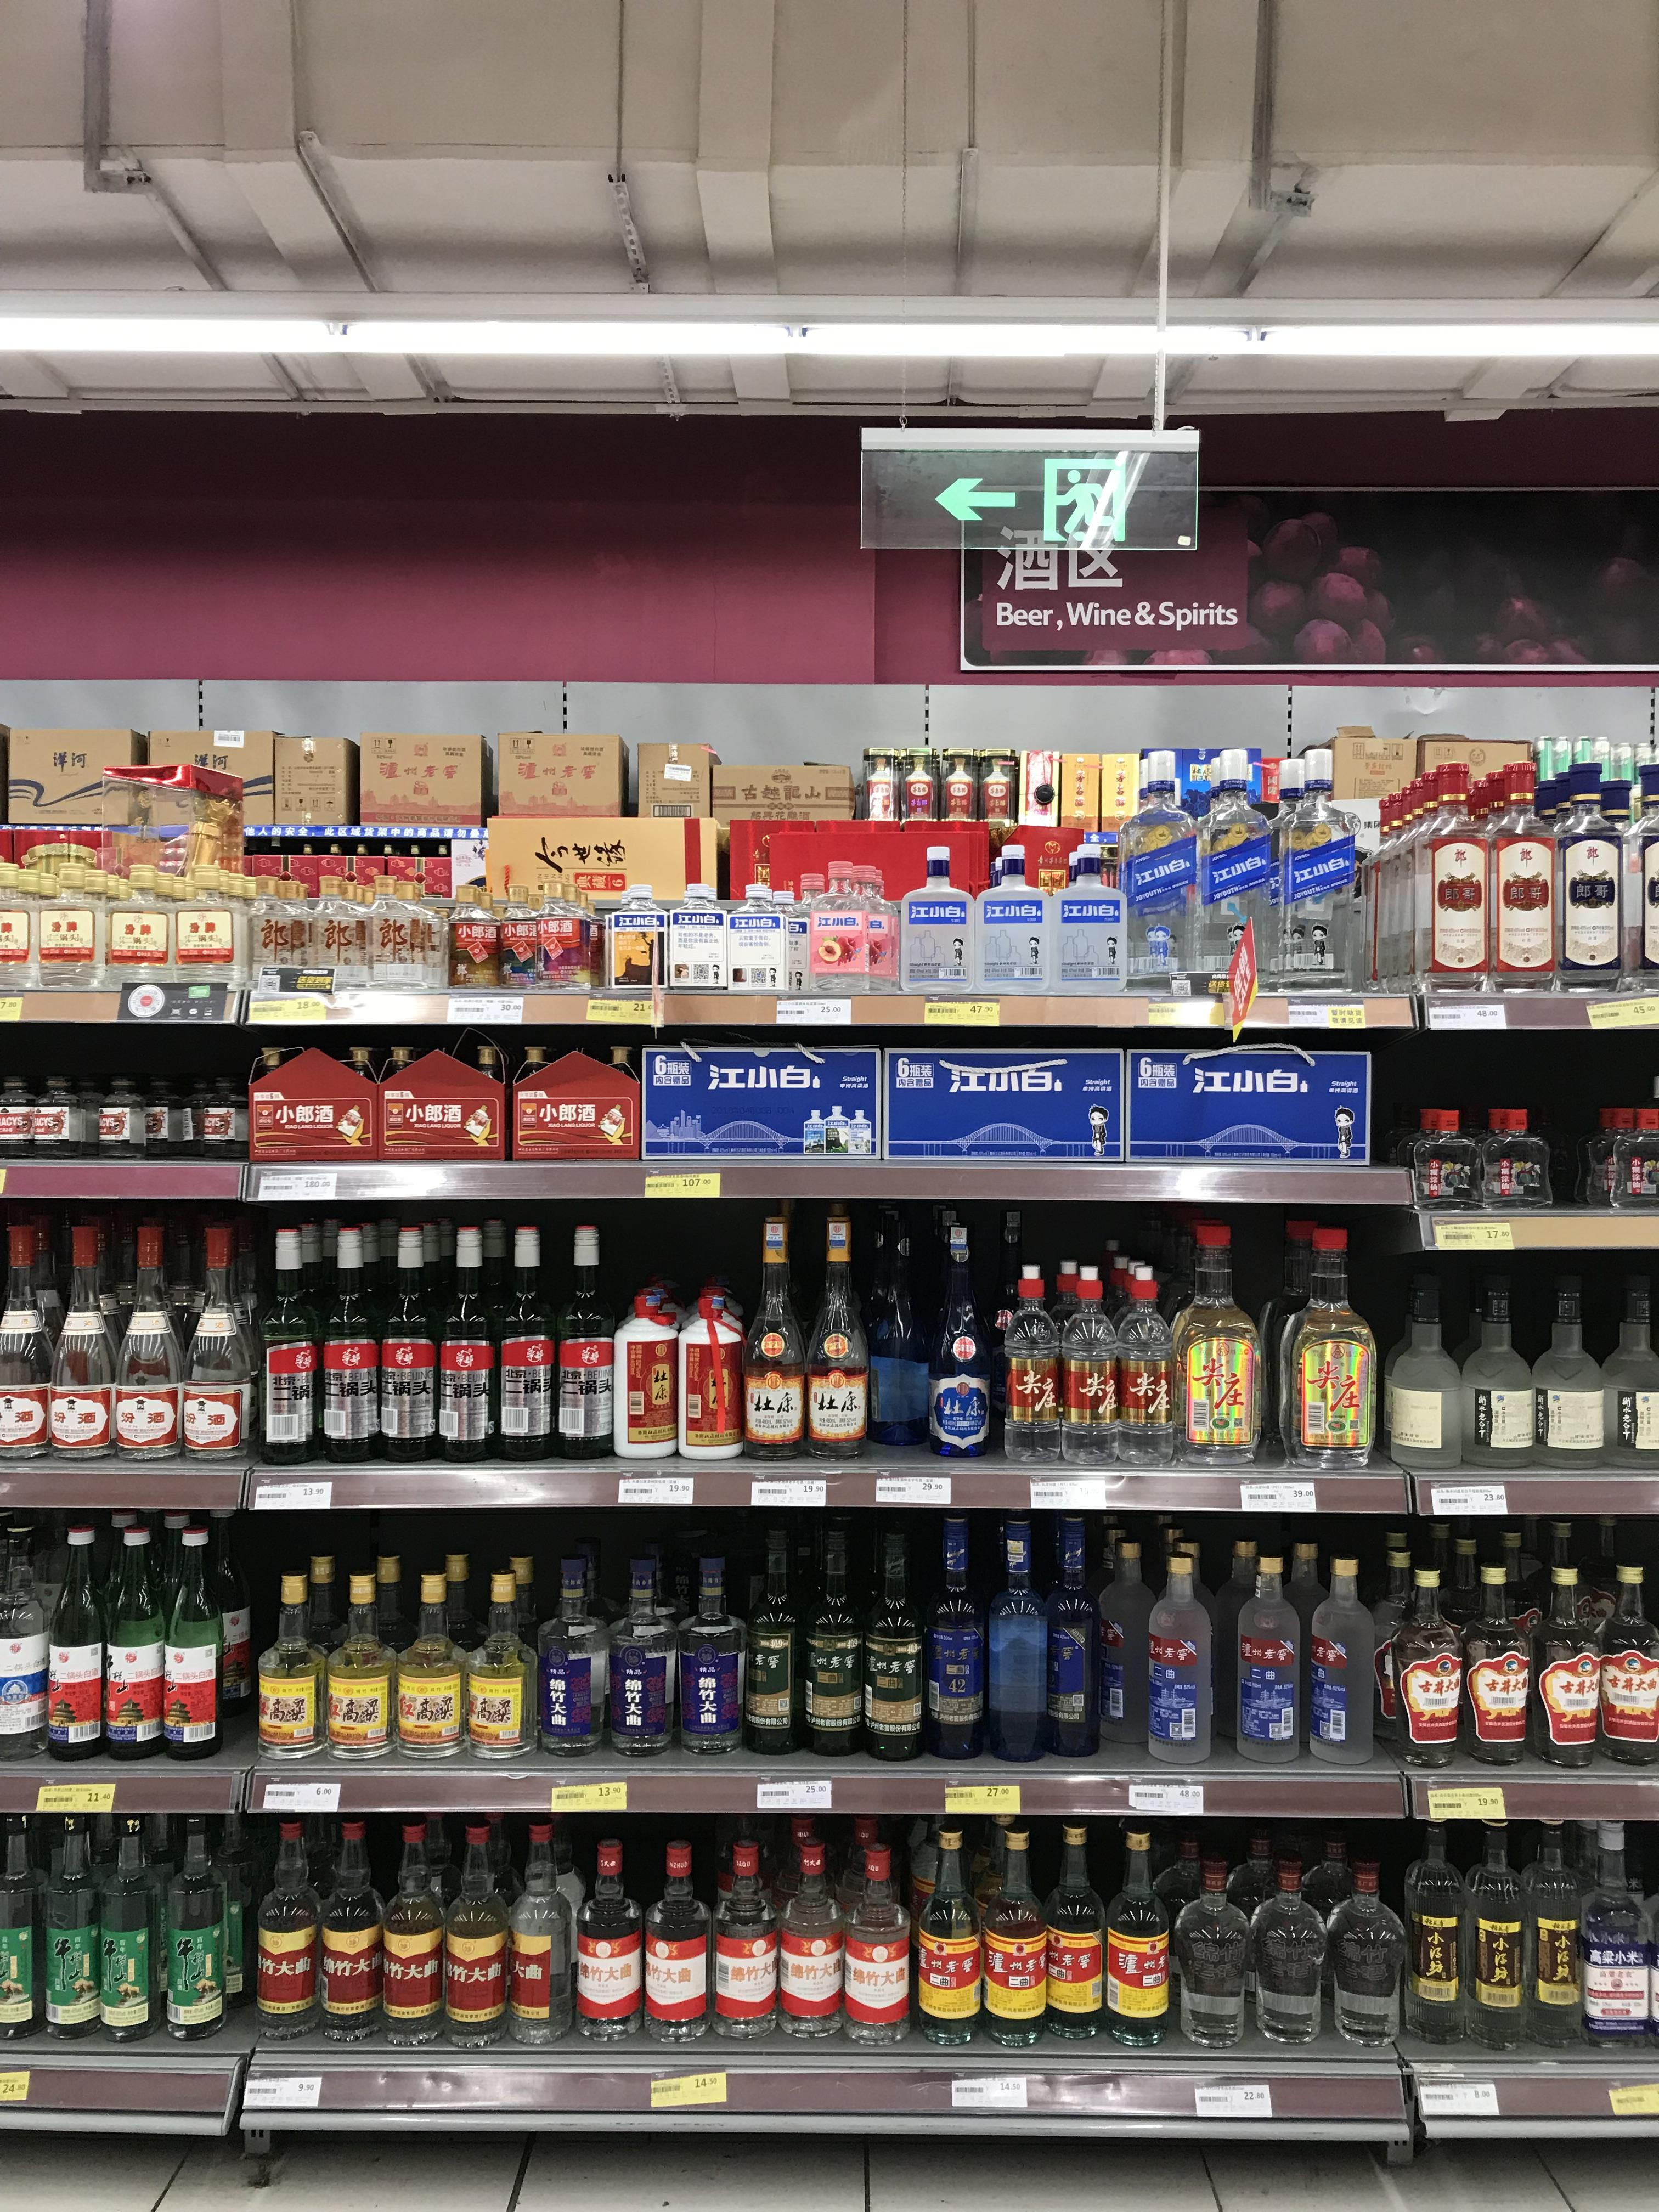bag: (1188, 758, 1297, 991), (1108, 758, 1201, 989), (265, 1026, 378, 1158), (728, 885, 789, 981), (666, 892, 725, 984), (535, 906, 579, 979)
bottle: (1175, 1221, 1258, 1467), (1290, 1226, 1371, 1468), (978, 1514, 1054, 1761), (1030, 1508, 1105, 1757), (917, 1507, 990, 1761), (1169, 1850, 1258, 2052), (798, 1211, 870, 1460), (1575, 1815, 1650, 2050), (863, 1204, 934, 1447), (1466, 1806, 1535, 2055), (44, 1522, 115, 1763), (112, 1223, 183, 1463), (98, 1521, 169, 1759), (178, 1224, 249, 1463), (160, 1519, 232, 1756), (1246, 1862, 1335, 2050), (861, 1517, 929, 1763), (929, 1224, 999, 1463), (159, 1808, 230, 2040), (33, 1803, 101, 2045), (800, 1515, 868, 1757), (978, 1813, 1047, 2048), (1523, 1803, 1591, 2043), (1399, 1815, 1469, 2048), (1101, 1827, 1175, 2048), (91, 1811, 160, 2043), (1493, 765, 1565, 989), (1560, 752, 1626, 991), (312, 1224, 378, 1463), (913, 1817, 981, 2048), (741, 1217, 805, 1461), (51, 1228, 117, 1465), (1387, 1566, 1466, 1763), (493, 1224, 558, 1463), (551, 1223, 615, 1460), (253, 1226, 317, 1463), (443, 1810, 507, 2047), (183, 1514, 251, 1738), (1040, 1813, 1107, 2043), (505, 1815, 570, 2048), (434, 1226, 497, 1465), (1328, 1862, 1408, 2048), (376, 1226, 439, 1463), (1138, 1548, 1209, 1756), (1297, 1557, 1371, 1754), (380, 1811, 443, 2045), (1230, 1552, 1302, 1756), (575, 1832, 643, 2047), (1464, 1561, 1535, 1764), (737, 1531, 802, 1756), (1387, 1270, 1460, 1467), (317, 1817, 382, 2038), (533, 1557, 605, 1756), (1534, 1568, 1605, 1766), (605, 1562, 678, 1756), (775, 1832, 843, 2040), (251, 1822, 317, 2031), (709, 1839, 777, 2041), (840, 1841, 908, 2043), (643, 1838, 709, 2045), (674, 1554, 742, 1754), (1530, 1271, 1600, 1463), (610, 1280, 681, 1465), (1460, 1271, 1528, 1463), (0, 1228, 56, 1460), (1593, 1566, 1657, 1766), (1105, 1270, 1171, 1461), (0, 1519, 54, 1752), (396, 1571, 462, 1761), (1089, 1538, 1150, 1743), (465, 1573, 532, 1759), (1056, 1270, 1121, 1460), (676, 1282, 742, 1461), (1002, 1271, 1065, 1460), (1600, 1263, 1657, 1463), (258, 1571, 319, 1759), (329, 1575, 389, 1761), (1478, 1118, 1558, 1216), (326, 827, 373, 982), (373, 834, 420, 986), (291, 831, 336, 984), (31, 876, 101, 974), (249, 843, 296, 981), (1415, 1116, 1480, 1214), (410, 833, 450, 988), (169, 881, 234, 972), (108, 888, 173, 972), (446, 864, 488, 989), (497, 887, 530, 982), (2, 1078, 37, 1160)
box: (1117, 1042, 1371, 1170), (648, 1038, 882, 1170), (885, 1043, 1121, 1167), (371, 1036, 512, 1169), (502, 1038, 645, 1162), (1028, 826, 1117, 988), (978, 840, 1054, 989), (899, 846, 978, 988), (612, 881, 671, 1001)
bucket: (1387, 758, 1478, 984), (1269, 782, 1363, 986), (1425, 765, 1506, 991)
jar: (1581, 1111, 1649, 1212), (185, 1078, 240, 1162), (92, 1076, 148, 1160), (28, 1078, 85, 1158), (136, 1078, 190, 1160)
others: (512, 812, 678, 951), (474, 725, 633, 815), (667, 752, 859, 824), (342, 728, 491, 815)
